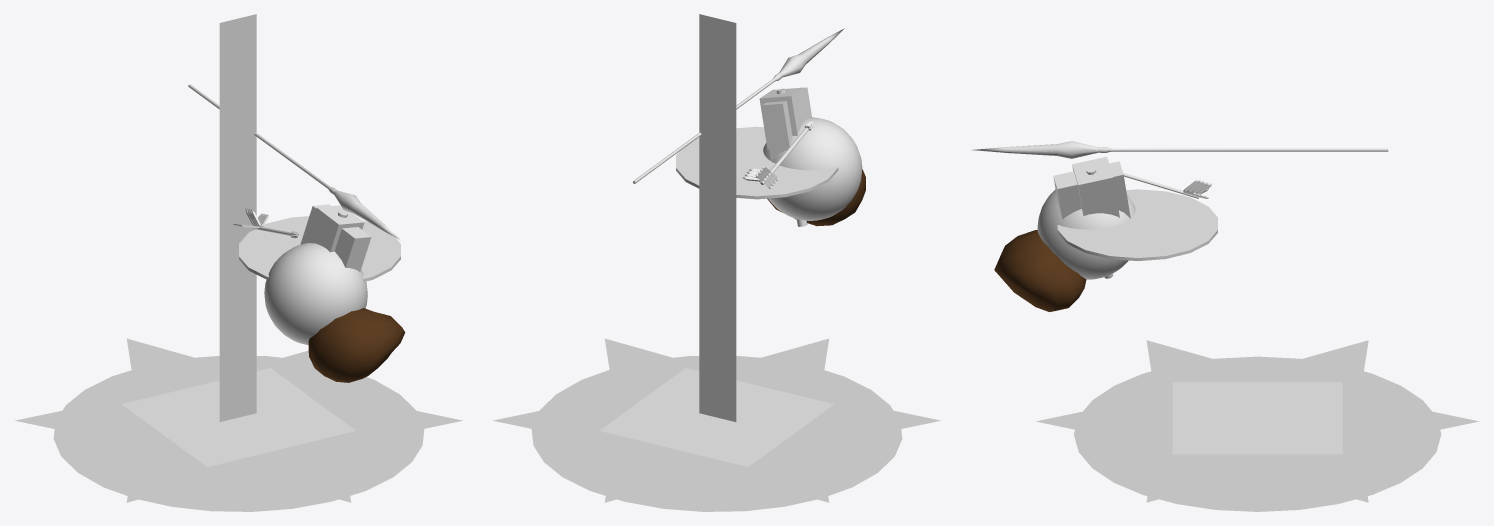
File: projNoSpells.FBX
The picture shows the model from 3 angles, left to right: view 1: azimuth 30°, elevation 25°; view 2: azimuth 150°, elevation 25°; view 3: azimuth 270°, elevation 25°; orthographic projection.
Parts seen in each view (by area): view 1: Star001, Plane001, Circle002, Grid, forwardSpell, Sphere002, RoundShield2, Mjolnir2, LSpear2, Arrow2; view 2: Star001, Plane001, Circle002, Grid, forwardSpell, RoundShield2, Mjolnir2, LSpear2, Arrow2, Sphere002; view 3: Star001, Circle002, Grid, RoundShield2, Sphere002, Mjolnir2, forwardSpell, LSpear2, Arrow2.
Boxes of the visible parts, x1=… form: Star001: x1=15, y1=338, x2=462, y2=502; Plane001: x1=219, y1=14, x2=256, y2=421; Circle002: x1=53, y1=356, x2=424, y2=511; Grid: x1=122, y1=368, x2=355, y2=466; forwardSpell: x1=264, y1=243, x2=367, y2=345; Sphere002: x1=308, y1=308, x2=405, y2=382; RoundShield2: x1=239, y1=216, x2=400, y2=281; Mjolnir2: x1=300, y1=204, x2=371, y2=272; LSpear2: x1=188, y1=84, x2=399, y2=239; Arrow2: x1=233, y1=208, x2=298, y2=238; Star001: x1=493, y1=338, x2=940, y2=502; Plane001: x1=699, y1=14, x2=736, y2=421; Circle002: x1=531, y1=356, x2=902, y2=511; Grid: x1=600, y1=368, x2=833, y2=466; forwardSpell: x1=763, y1=117, x2=862, y2=220; RoundShield2: x1=676, y1=126, x2=838, y2=199; Mjolnir2: x1=759, y1=87, x2=811, y2=226; LSpear2: x1=633, y1=28, x2=844, y2=183; Arrow2: x1=742, y1=121, x2=813, y2=188; Sphere002: x1=767, y1=169, x2=865, y2=226; Star001: x1=1035, y1=340, x2=1479, y2=502; Circle002: x1=1074, y1=356, x2=1441, y2=511; Grid: x1=1172, y1=382, x2=1342, y2=454; RoundShield2: x1=1057, y1=189, x2=1217, y2=260; Sphere002: x1=994, y1=230, x2=1086, y2=311; Mjolnir2: x1=1053, y1=156, x2=1130, y2=278; forwardSpell: x1=1037, y1=189, x2=1135, y2=279; LSpear2: x1=971, y1=141, x2=1388, y2=158; Arrow2: x1=1123, y1=173, x2=1212, y2=198.
Bounding box in the file's own units: 1.36 × 1.6 × 1.8.
